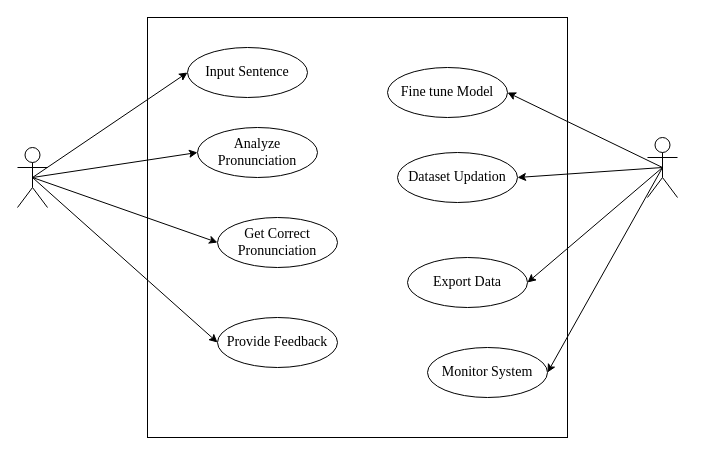
Image size: 721x455. Some labels were removed from this diagram. The centre of each missing label's shape, as x and y in pixels:
"System Admin" belongs at point 662,167.
"User" belongs at point 32,177.
